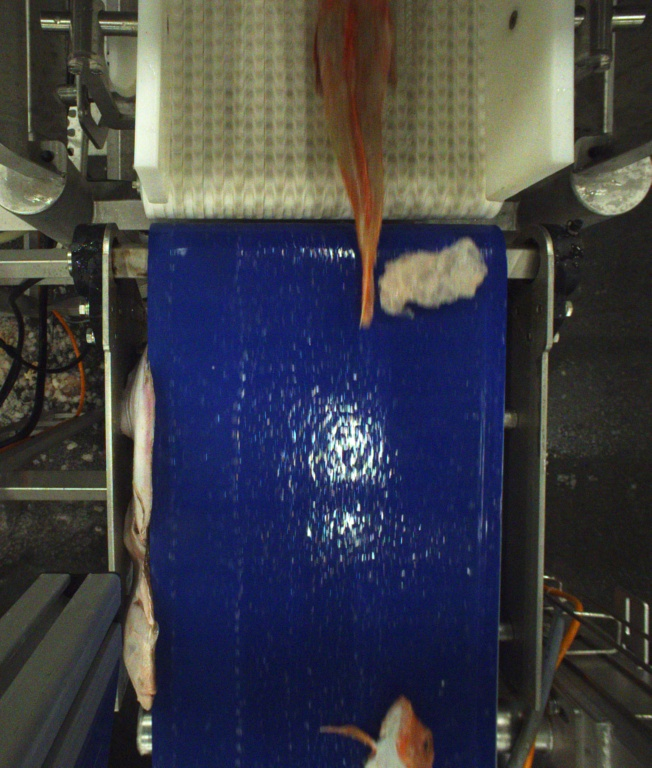GUU: (321, 696, 435, 768)
